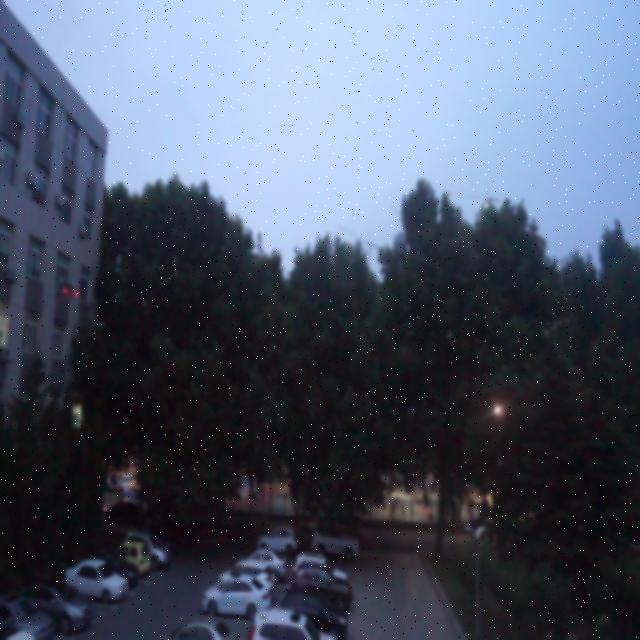UAV: (62, 282, 80, 301)
